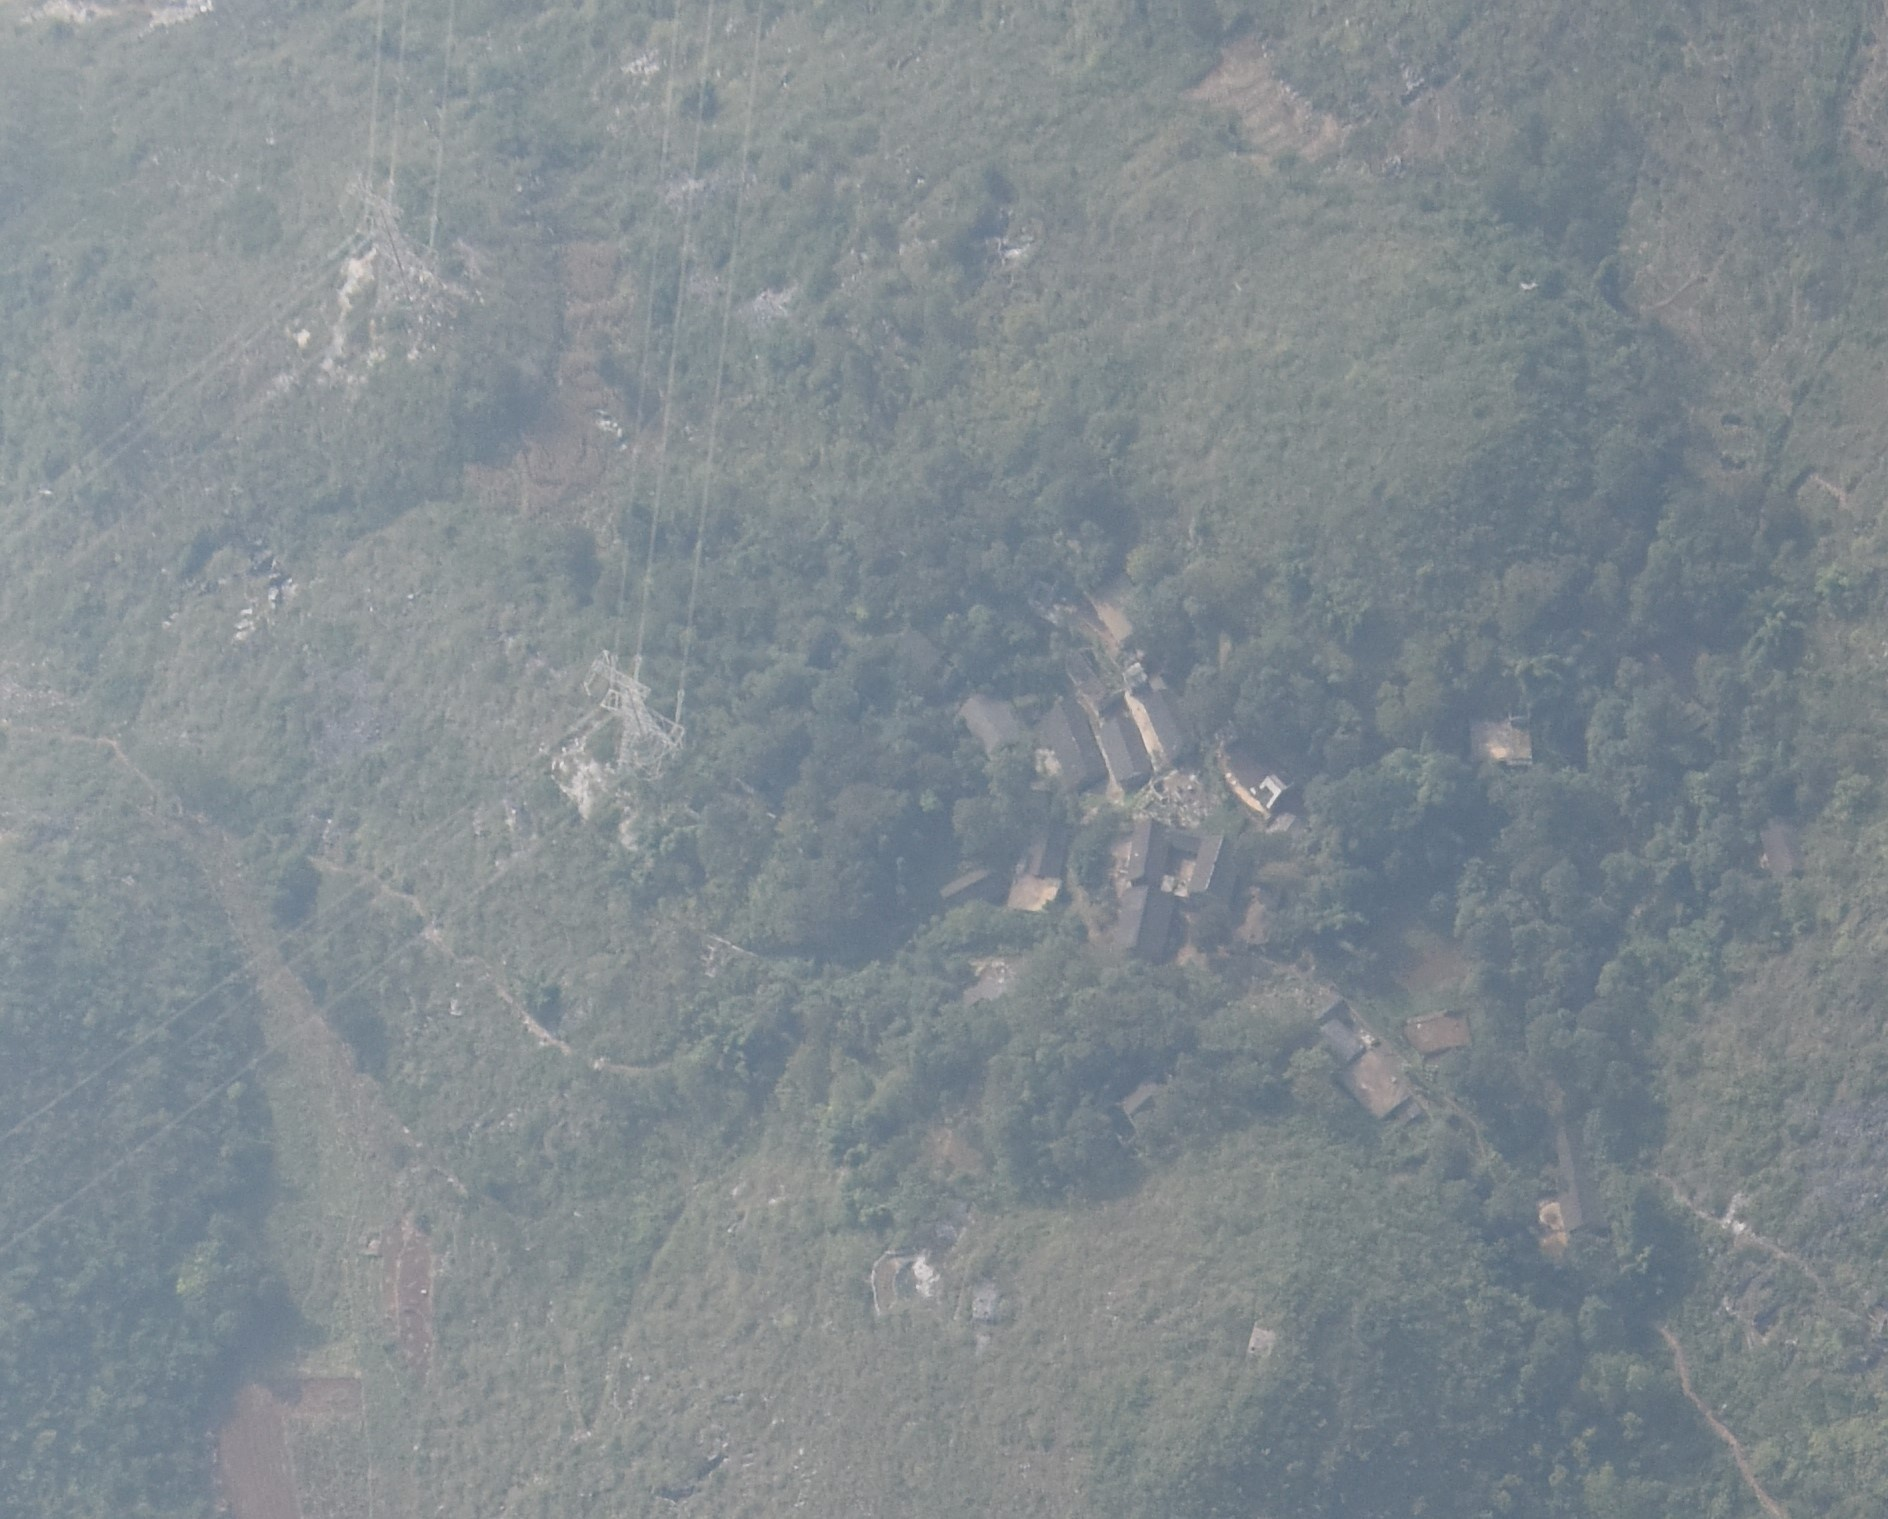building: (1127, 822, 1240, 911), (1042, 704, 1105, 795), (1221, 739, 1296, 814), (1556, 1120, 1604, 1230), (1335, 1051, 1411, 1118), (960, 690, 1032, 759), (1124, 689, 1185, 766), (1115, 888, 1176, 958), (1088, 573, 1145, 645), (1099, 717, 1151, 785), (1470, 715, 1536, 767), (1023, 814, 1069, 880), (1403, 1012, 1473, 1052), (1317, 1019, 1363, 1068), (937, 864, 998, 900)
cable-tower: (334, 167, 445, 324), (584, 651, 683, 794)
